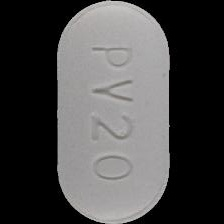63629-3563: (0, 0, 224, 224)
